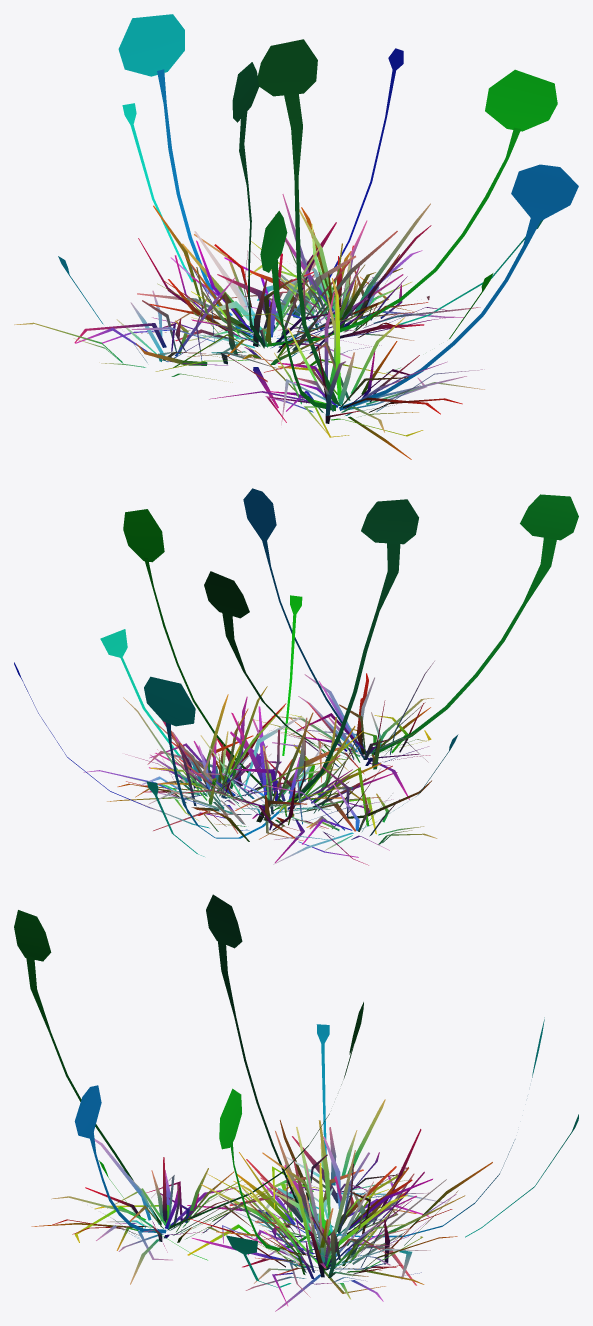
File: Sea_Thrift_vkbgaihha_Mid_vkbgaihha_VarC_LOD2.fbx
3 views of the same model, one above another, from view 1: azimuth 30°, elevation 25°; view 2: azimuth 150°, elevation 25°; view 3: azimuth 270°, elevation 25° (orthographic). The views are drawn at different scales.
Visible parts, largest first — view 1: _bbzc_VarC_LOD3; view 2: _bbzc_VarC_LOD3; view 3: _bbzc_VarC_LOD3.
Part boxes in pixels (x1,y1,x2,y2): _bbzc_VarC_LOD3: (14,14,578,459); _bbzc_VarC_LOD3: (14,488,578,865); _bbzc_VarC_LOD3: (14,894,578,1311).
Bounding box in the file's own units: 30.97 × 22.2 × 36.5.
